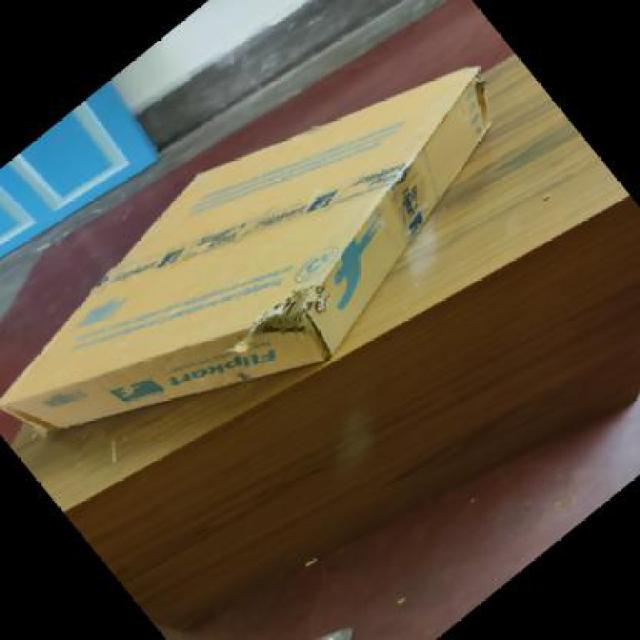squeeze: (232, 271, 361, 367)
